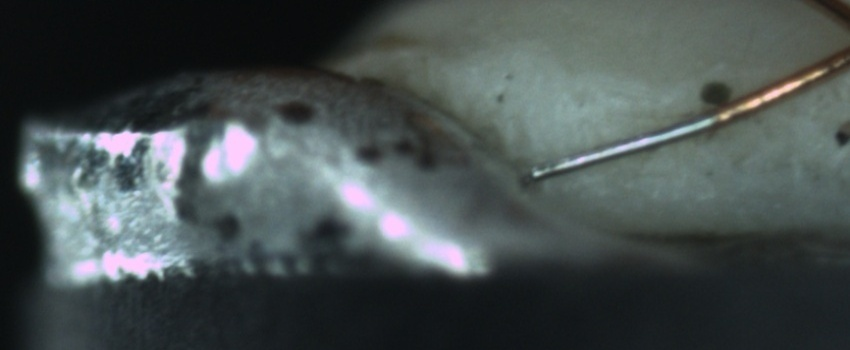TS: (532, 100, 725, 181)
